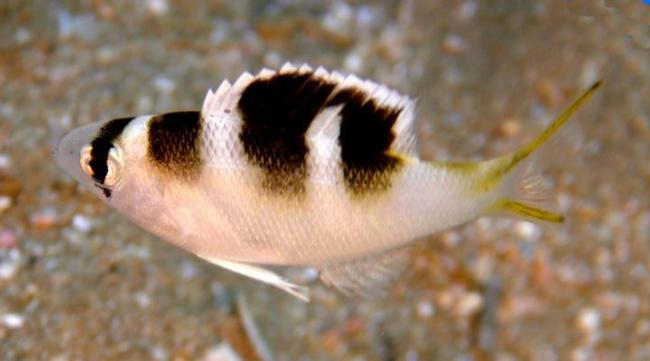fish: (52, 61, 604, 305)
